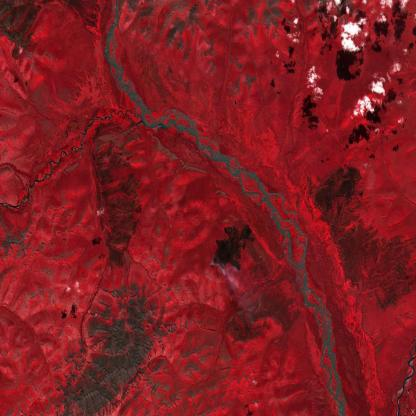fire: (207, 246, 229, 279)
